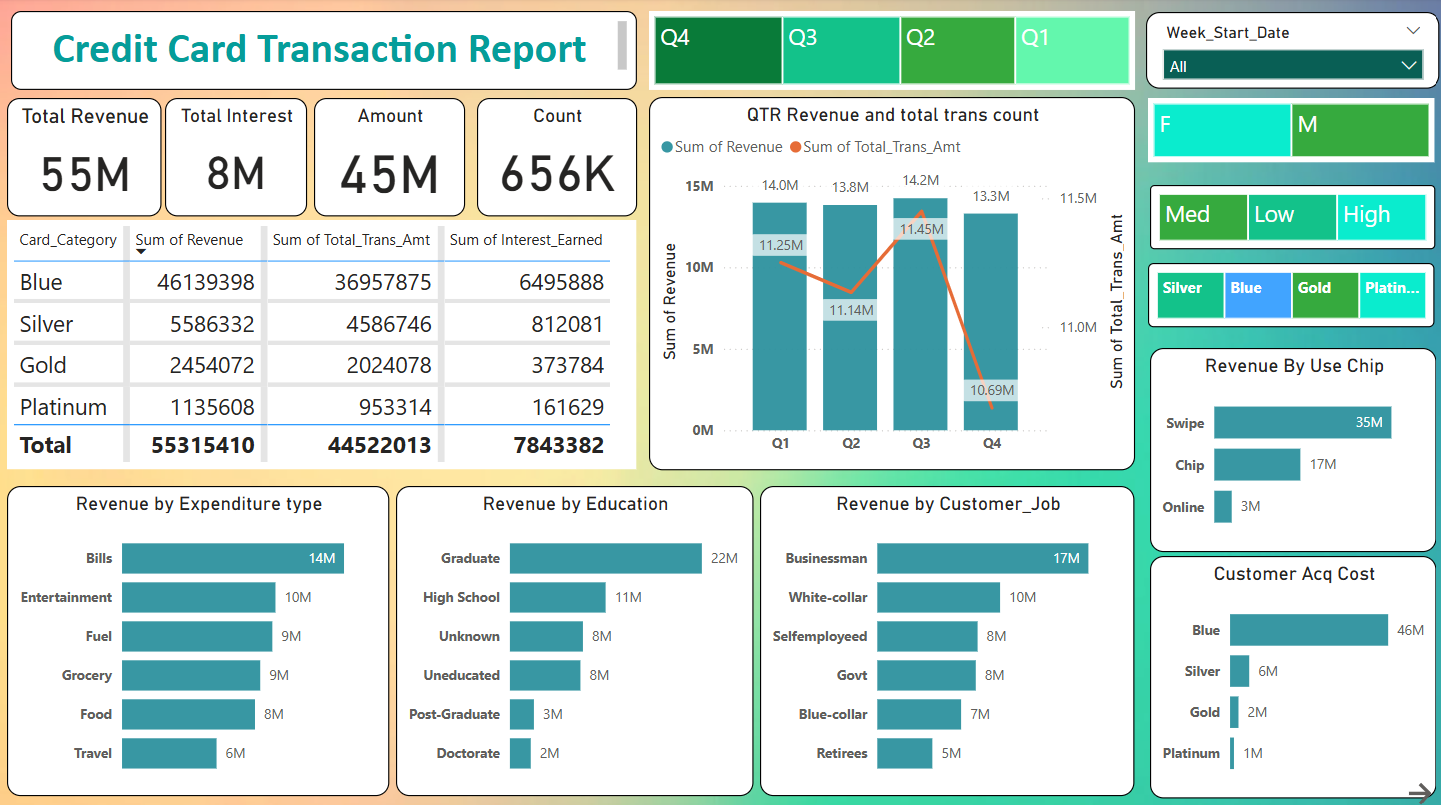

What the dashboard file says about the page in this screenshot:
{"tool":"powerbi","page":{"name":"CC Transaction","canvas":[1280,720],"ordinal":0},"visuals":[{"type":"textbox","box":[11.1,11.1,555.1,70],"z":0},{"type":"lineStackedColumnComboChart","title":"QTR Revenue and total trans count","fields":{"Category":["credit_cards.Qtr"],"Y":["Sum(credit_cards.Revenue)"],"Y2":["Sum(credit_cards.Total_Trans_Amt)"]},"box":[577.4,87.5,431.1,330.8],"z":1000},{"type":"barChart","title":"Revenue by Expenditure type ","fields":{"Y":["Sum(credit_cards.Revenue)"],"Category":["credit_cards.Exp Type"]},"box":[8,432.6,338.8,275.2],"z":2000},{"type":"barChart","title":"Revenue by Education","fields":{"Category":["customer.Education_Level"],"Y":["Sum(credit_cards.Revenue)"]},"box":[353.1,432.6,316.5,275.2],"z":3000},{"type":"tableEx","fields":{"Values":["credit_cards.Card_Category","Sum(credit_cards.Revenue)","Sum(credit_cards.Total_Trans_Amt)","Sum(credit_cards.Interest_Earned)"]},"box":[8,197.2,558.3,221.1],"z":4000},{"type":"card","title":"Total Revenue","fields":{"Values":["Sum(credit_cards.Revenue)"]},"box":[8,89.1,136.8,105],"z":5000},{"type":"card","title":"Count","fields":{"Values":["Sum(credit_cards.Total_Trans_Vol)"]},"box":[424.7,89.1,141.6,105],"z":6000},{"type":"card","title":"Amount","fields":{"Values":["Sum(credit_cards.Total_Trans_Amt)"]},"box":[284.2,89.1,133.6,105],"z":7000},{"type":"card","title":"Total Interest","fields":{"Values":["Sum(credit_cards.Interest_Earned)"]},"box":[151.6,89.1,125.7,105],"z":8000},{"type":"slicer","fields":{"Values":["credit_cards.Week_Start_Date"]},"box":[1018,12.7,260.9,68.4],"z":9000},{"type":"barChart","title":"Revenue by Customer_Job","fields":{"Category":["customer.Customer_Job"],"Y":["Sum(credit_cards.Revenue)"]},"box":[676,432.6,332.4,275.2],"z":10000},{"type":"barChart","title":"Customer Acq Cost","fields":{"Y":["Sum(credit_cards.Revenue)"],"Category":["credit_cards.Card_Category"]},"box":[1021.2,494.7,254.5,214.7],"z":11000},{"type":"barChart","title":"Revenue By Use Chip","fields":{"Y":["Sum(credit_cards.Revenue)"],"Category":["credit_cards.Use Chip"]},"box":[1021.2,310.2,254.5,181.3],"z":12000},{"type":"treemap","fields":{"Group":["credit_cards.Qtr"],"Values":["Avg(credit_cards.Client_Num)"]},"box":[577.4,11.1,431.1,70],"z":13000},{"type":"treemap","fields":{"Group":["customer.Gender"],"Values":["Avg(credit_cards.Client_Num)"]},"box":[1019.6,89.1,254.5,57.3],"z":14000},{"type":"treemap","fields":{"Values":["Avg(credit_cards.Client_Num)"],"Group":["credit_cards.Card_Category"]},"box":[1019.6,235.4,254.5,57.3],"z":15000},{"type":"treemap","fields":{"Group":["customer.IncomeGroup"],"Values":["Avg(credit_cards.Client_Num)"]},"box":[1021.2,165.4,252.9,57.3],"z":16000},{"type":"actionButton","box":[1245.4,691.9,35,28.6],"z":17000}]}

Visuals, with their boxes in screenshot pixels (x1, y1, x2, y2), scaled from the page's 1280x720 canvas onto the 1441x805 screenshot:
textbox: <box>12,12,637,91</box>
"QTR Revenue and total trans count" lineStackedColumnComboChart: <box>650,98,1135,468</box>
"Revenue by Expenditure type " barChart: <box>9,484,390,791</box>
"Revenue by Education" barChart: <box>398,484,754,791</box>
tableEx - credit_cards.Card_Category x Sum(credit_cards.Revenue): <box>9,220,638,468</box>
"Total Revenue" card: <box>9,100,163,217</box>
"Count" card: <box>478,100,638,217</box>
"Amount" card: <box>320,100,470,217</box>
"Total Interest" card: <box>171,100,312,217</box>
slicer - credit_cards.Week_Start_Date: <box>1146,14,1440,91</box>
"Revenue by Customer_Job" barChart: <box>761,484,1135,791</box>
"Customer Acq Cost" barChart: <box>1150,553,1436,793</box>
"Revenue By Use Chip" barChart: <box>1150,347,1436,550</box>
treemap - credit_cards.Qtr x Avg(credit_cards.Client_Num): <box>650,12,1135,91</box>
treemap - customer.Gender x Avg(credit_cards.Client_Num): <box>1148,100,1434,164</box>
treemap - Avg(credit_cards.Client_Num) x credit_cards.Card_Category: <box>1148,263,1434,327</box>
treemap - customer.IncomeGroup x Avg(credit_cards.Client_Num): <box>1150,185,1434,249</box>
actionButton: <box>1402,774,1440,804</box>
